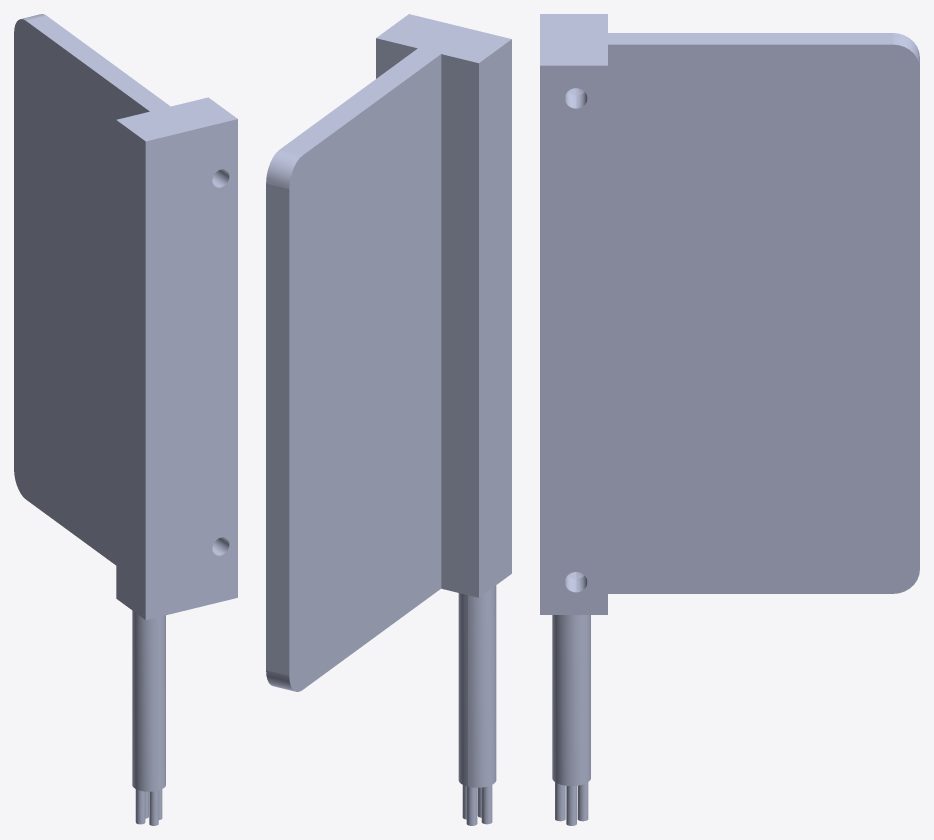
The model's file is MUI-6.glb.
3 views of the same model, side by side, from view 1: azimuth 30°, elevation 25°; view 2: azimuth 150°, elevation 25°; view 3: azimuth 270°, elevation 25° (orthographic). The views are drawn at different scales.
Parts seen in each view (by area): view 1: MUI-6_node; view 2: MUI-6_node; view 3: MUI-6_node.
Boxes of the visible parts, x1,y1,x2,y2 form: MUI-6_node: (14, 14, 237, 825); MUI-6_node: (266, 14, 511, 825); MUI-6_node: (540, 14, 919, 825).
Bounding box in the file's own units: 13.5 × 97 × 42.
